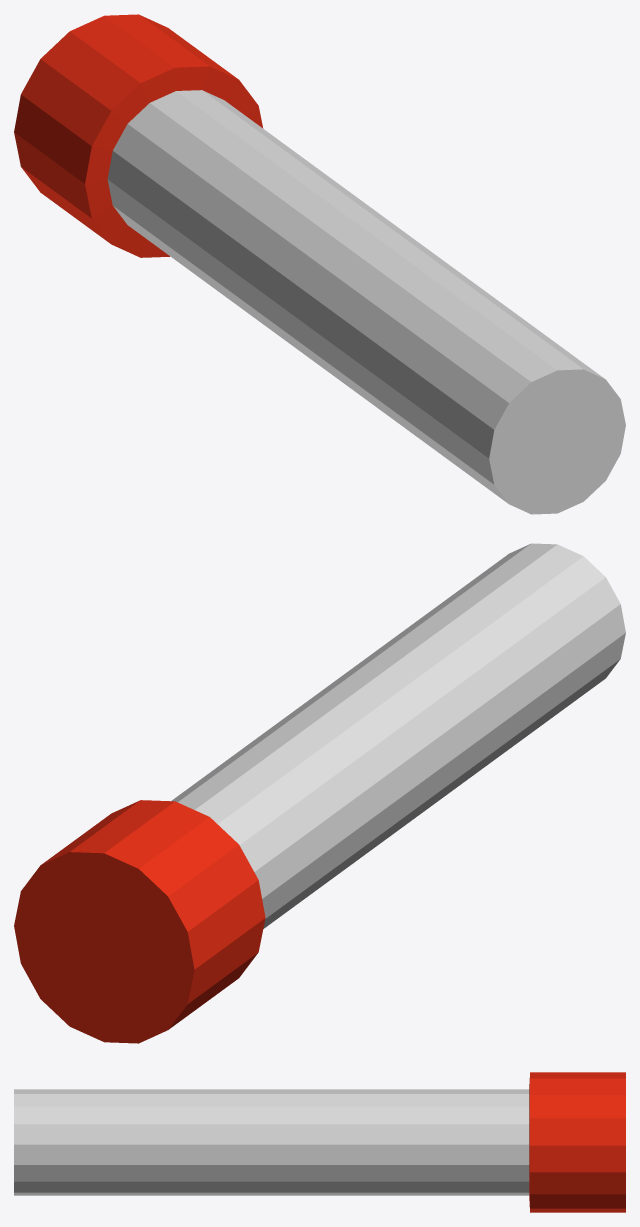
The model's file is RamRW.fbx.
3 renders of one model, top to bottom at view 1: azimuth 30°, elevation 25°; view 2: azimuth 150°, elevation 25°; view 3: azimuth 270°, elevation 25°, orthographic. The views are drawn at different scales.
Visible parts, largest first — view 1: Cylinder; view 2: Cylinder; view 3: Cylinder.
Boxes of the visible parts, <box> form: Cylinder: <box>14,14,625,514</box>; Cylinder: <box>14,543,625,1043</box>; Cylinder: <box>14,1072,625,1212</box>.
Size of the model in its own units: 46 by 46 by 200.
